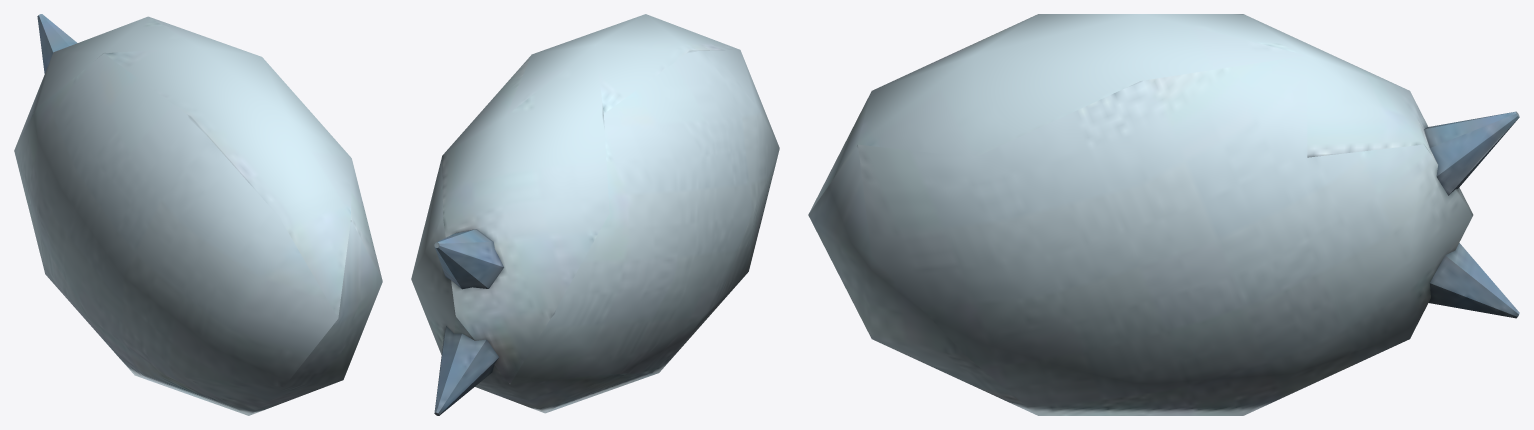
The model's file is pez_helado.glb.
3 views of the same model, side by side, from view 1: azimuth 30°, elevation 25°; view 2: azimuth 150°, elevation 25°; view 3: azimuth 270°, elevation 25° (orthographic). The views are drawn at different scales.
Visible parts, largest first — view 1: pez_helado; view 2: pez_helado; view 3: pez_helado.
Boxes of the visible parts, x1=… form: pez_helado: x1=14, y1=14, x2=382, y2=415; pez_helado: x1=411, y1=14, x2=779, y2=415; pez_helado: x1=808, y1=14, x2=1519, y2=415.
Size of the model in its own units: 0.7133 by 1 by 1.6.
1 material, 1 textured.
